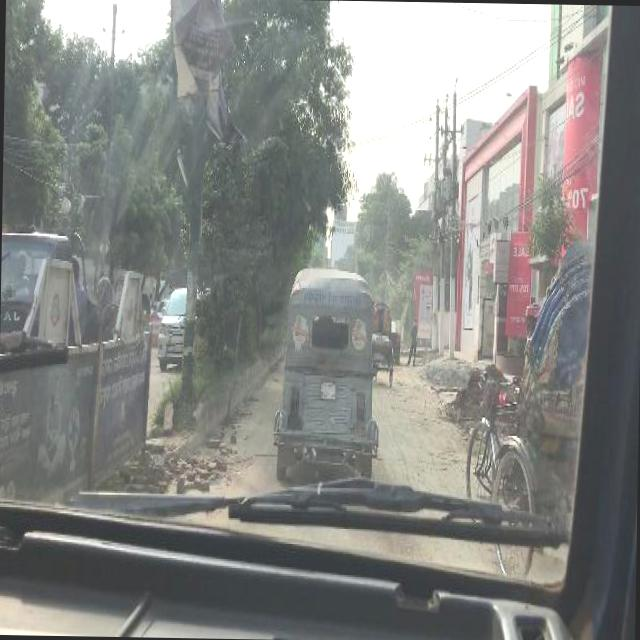car: (388, 318, 401, 364)
motorcycle: (464, 248, 596, 570), (272, 266, 379, 482), (371, 297, 395, 383)
truck: (0, 224, 120, 352), (158, 283, 204, 364)
